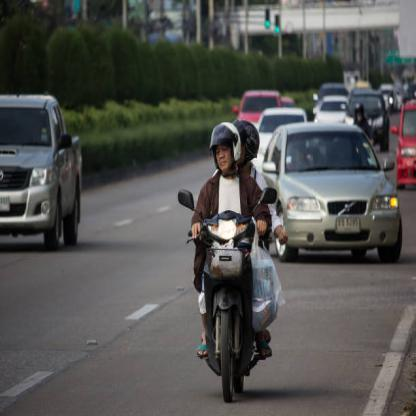Motorcycle: (183, 193, 269, 404)
